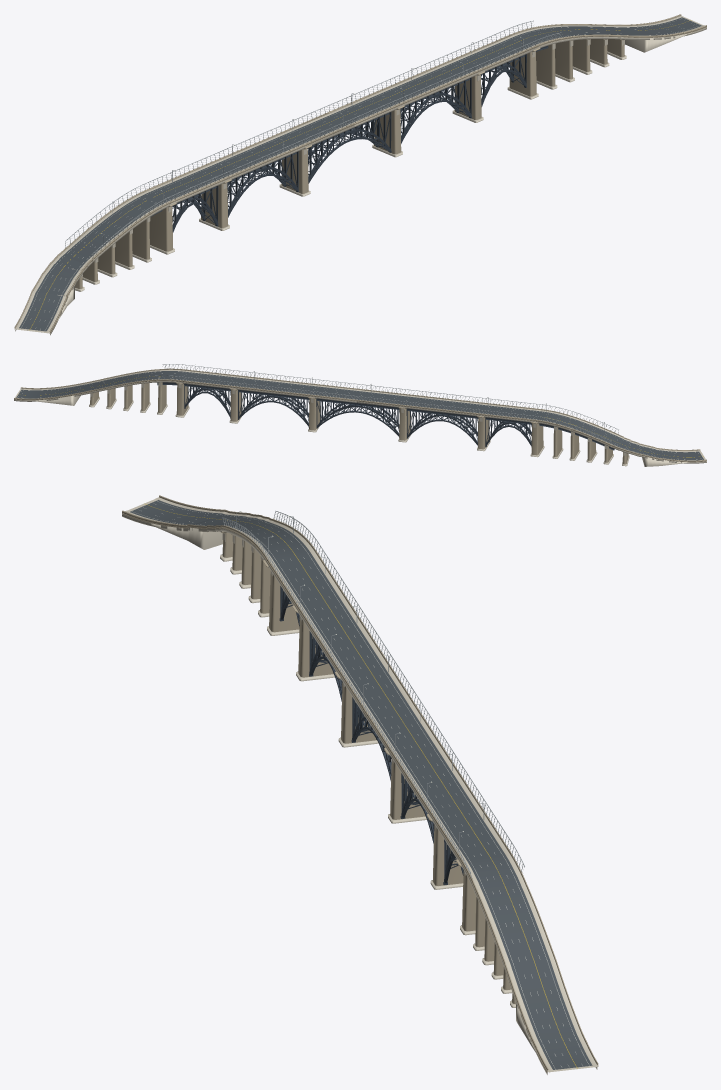
File: prince-edward-viaduct-near.glb
The picture shows the model from 3 angles, top to bottom: view 1: azimuth 30°, elevation 25°; view 2: azimuth 150°, elevation 25°; view 3: azimuth 270°, elevation 25°; orthographic projection. The views are drawn at different scales.
Visible parts, largest first — view 1: prince-edward-viaduct-0-asphalt, prince-edward-viaduct-1-stone, prince-edward-viaduct-0-stone, prince-edward-viaduct-1-asphalt, prince-edward-viaduct-0-steel, prince-edward-viaduct-0-concrete, prince-edward-viaduct-1-concrete, prince-edward-viaduct-1-steel, prince-edward-viaduct-0-rail, prince-edward-viaduct-1-rail, prince-edward-viaduct-0-veil; view 2: prince-edward-viaduct-1-stone, prince-edward-viaduct-0-stone, prince-edward-viaduct-0-asphalt, prince-edward-viaduct-0-steel, prince-edward-viaduct-1-asphalt, prince-edward-viaduct-0-concrete, prince-edward-viaduct-1-concrete, prince-edward-viaduct-1-steel, prince-edward-viaduct-0-rail, prince-edward-viaduct-0-veil, prince-edward-viaduct-1-rail; view 3: prince-edward-viaduct-1-asphalt, prince-edward-viaduct-0-asphalt, prince-edward-viaduct-0-stone, prince-edward-viaduct-1-stone, prince-edward-viaduct-1-concrete, prince-edward-viaduct-0-concrete, prince-edward-viaduct-0-rail, prince-edward-viaduct-0-steel, prince-edward-viaduct-1-rail, prince-edward-viaduct-1-steel.
Part boxes in pixels (box(x1,y1,x2,y2)): prince-edward-viaduct-0-asphalt: box(19, 115, 350, 331); prince-edward-viaduct-1-stone: box(328, 14, 706, 154); prince-edward-viaduct-0-stone: box(14, 112, 354, 333); prince-edward-viaduct-1-asphalt: box(331, 17, 701, 122); prince-edward-viaduct-0-steel: box(150, 112, 391, 232); prince-edward-viaduct-0-concrete: box(14, 113, 354, 335); prince-edward-viaduct-1-concrete: box(329, 15, 706, 157); prince-edward-viaduct-1-steel: box(347, 45, 548, 143); prince-edward-viaduct-0-rail: box(65, 106, 355, 257); prince-edward-viaduct-1-rail: box(327, 20, 561, 122); prince-edward-viaduct-0-veil: box(66, 22, 560, 252); prince-edward-viaduct-1-stone: box(14, 368, 363, 430); prince-edward-viaduct-0-stone: box(356, 389, 706, 464); prince-edward-viaduct-0-asphalt: box(358, 391, 703, 460); prince-edward-viaduct-0-steel: box(316, 398, 614, 450); prince-edward-viaduct-1-asphalt: box(16, 371, 362, 399); prince-edward-viaduct-0-concrete: box(356, 390, 706, 466); prince-edward-viaduct-1-concrete: box(14, 369, 362, 432); prince-edward-viaduct-1-steel: box(157, 382, 358, 427); prince-edward-viaduct-0-rail: box(357, 384, 618, 441); prince-edward-viaduct-0-veil: box(156, 364, 618, 441); prince-edward-viaduct-1-rail: box(155, 364, 363, 399); prince-edward-viaduct-1-asphalt: box(369, 704, 592, 1069); prince-edward-viaduct-0-asphalt: box(130, 500, 407, 708); prince-edward-viaduct-0-stone: box(122, 495, 413, 743); prince-edward-viaduct-1-stone: box(362, 702, 598, 1072); prince-edward-viaduct-1-concrete: box(363, 703, 598, 1074); prince-edward-viaduct-0-concrete: box(122, 497, 412, 747); prince-edward-viaduct-0-rail: box(222, 510, 415, 704); prince-edward-viaduct-0-steel: box(279, 586, 391, 780); prince-edward-viaduct-1-rail: box(361, 693, 524, 877); prince-edward-viaduct-1-steel: box(400, 773, 463, 885).
Size of the model in its own units: 676 by 51.94 by 237.
